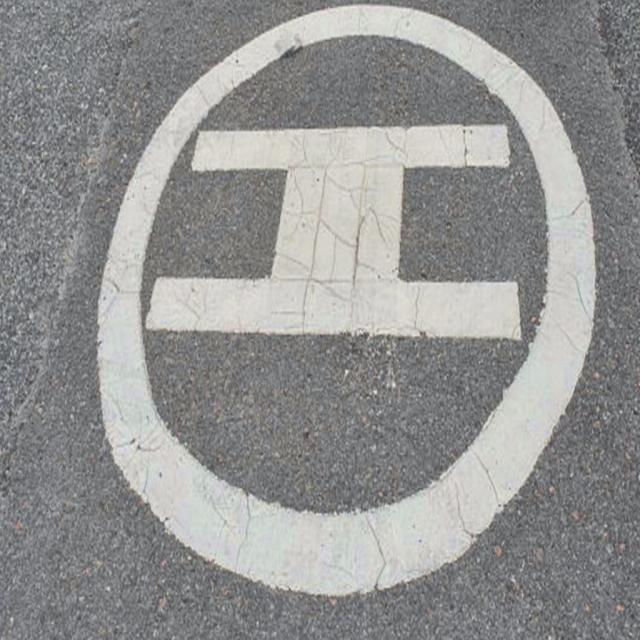helipad: (89, 0, 605, 604)
